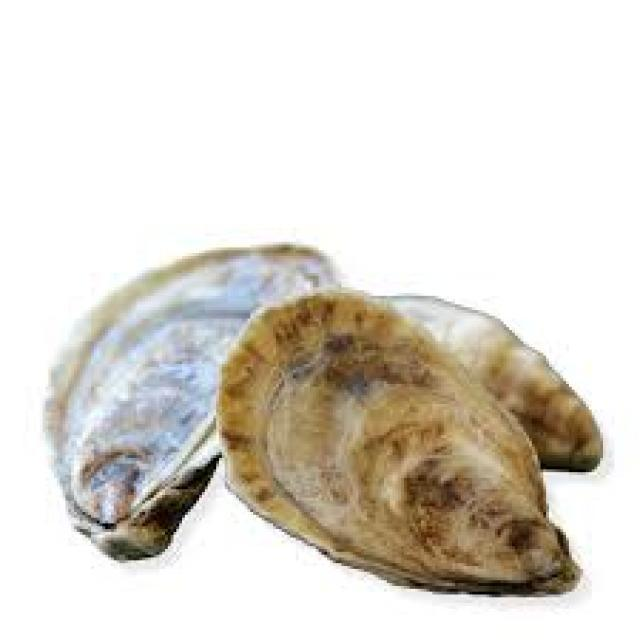Oyster- Indeterminate: (218, 291, 578, 592), (45, 245, 306, 561), (329, 274, 640, 429)
